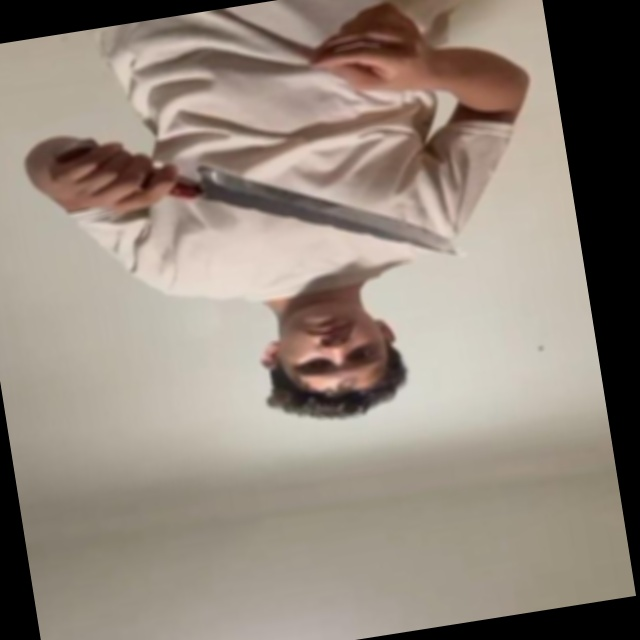Sharp-Object: (201, 136, 468, 294)
